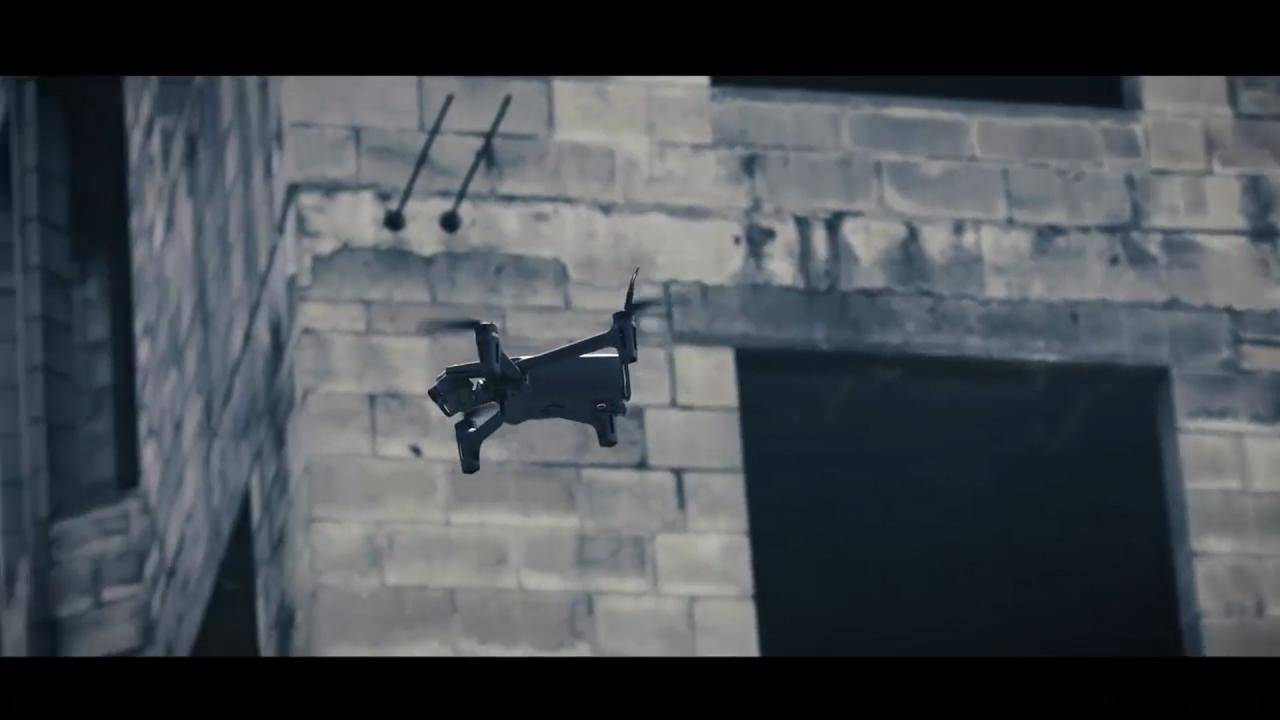Drone: (395, 252, 708, 489)
